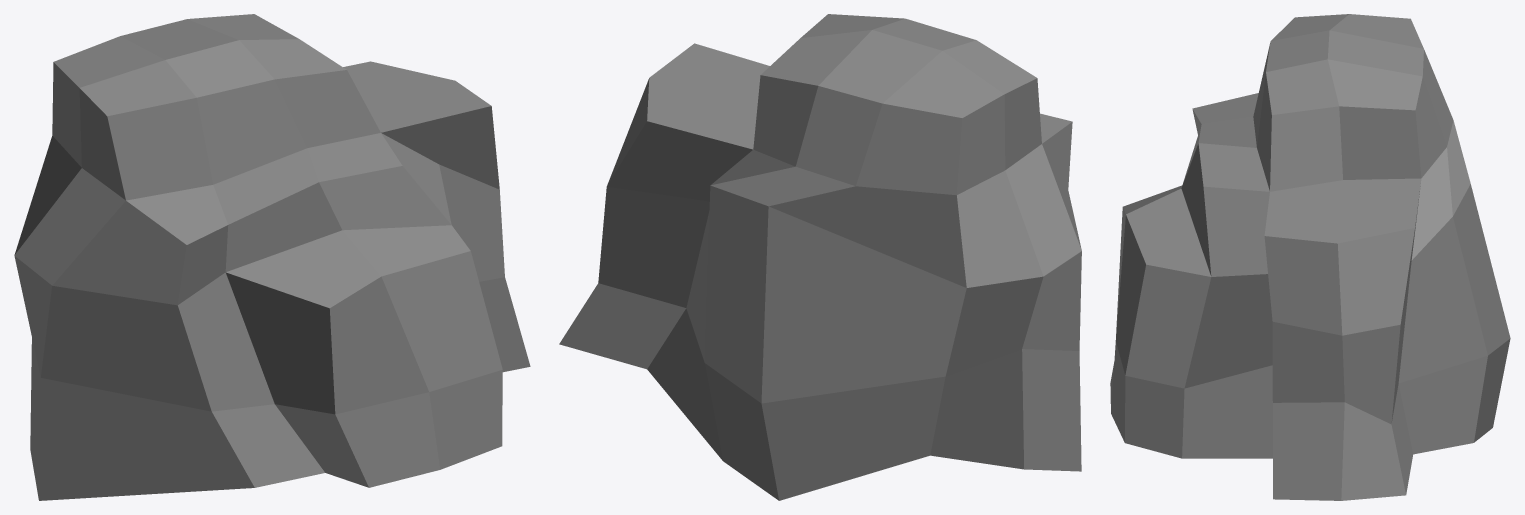
Rendered from roccia2.obj.
3 renders of one model, left to right at view 1: azimuth 30°, elevation 25°; view 2: azimuth 150°, elevation 25°; view 3: azimuth 270°, elevation 25°, orthographic. The views are drawn at different scales.
Parts seen in each view (by area): view 1: BigRock3; view 2: BigRock3; view 3: BigRock3.
Boxes of the visible parts, x1,y1,x2,y2 form: BigRock3: [14, 14, 530, 500]; BigRock3: [559, 14, 1081, 500]; BigRock3: [1110, 14, 1510, 500].
Bounding box in the file's own units: 11.51 × 9.42 × 9.3.
Materials: 1 (1 with a texture image).
